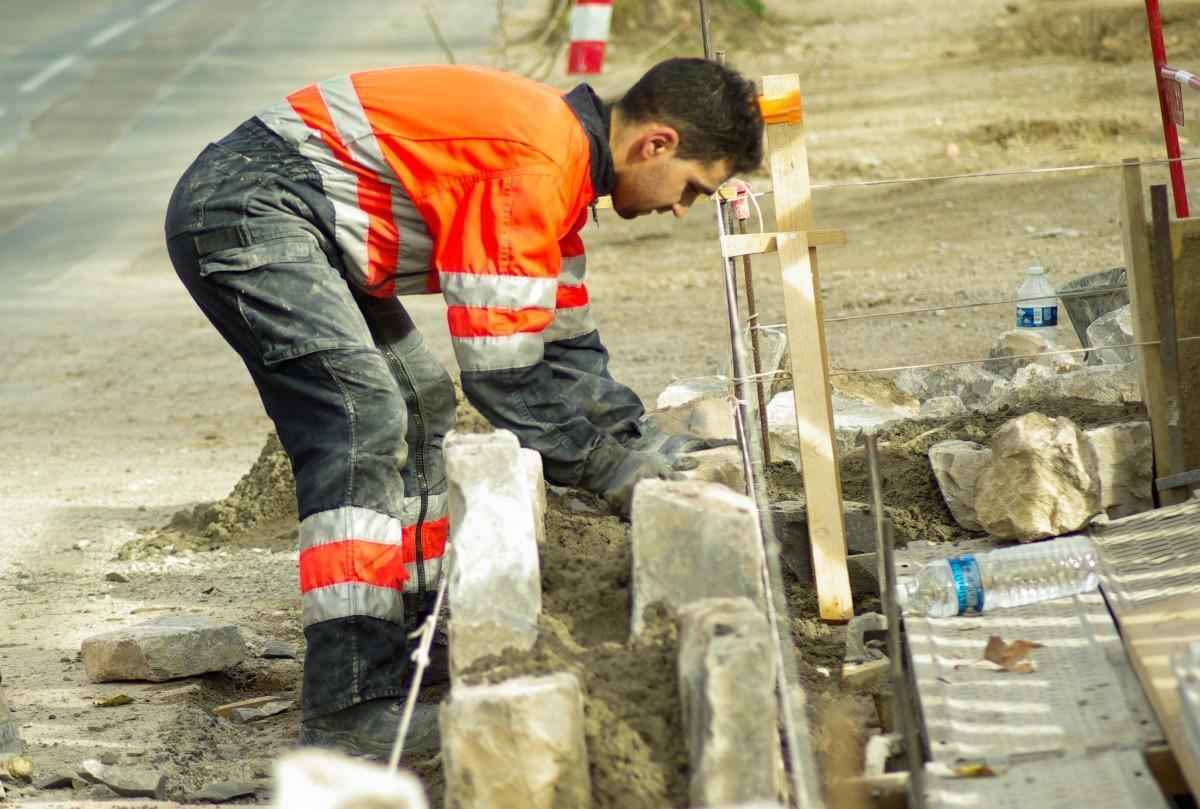vest: (266, 40, 591, 312)
